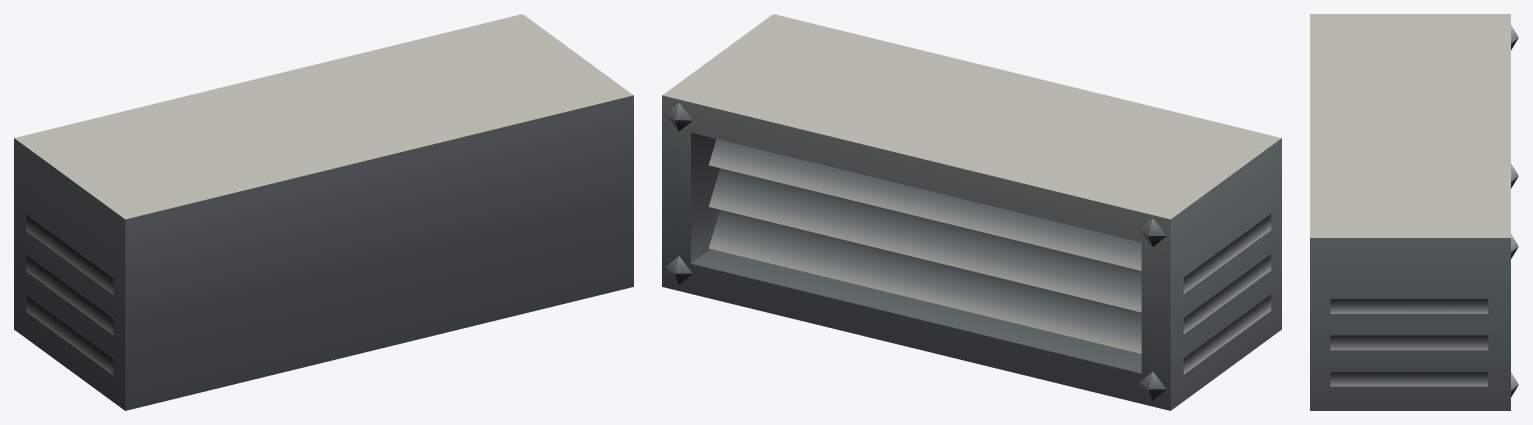
File: Air_Conditioner_3A.fbx
3 views of the same model, side by side, from view 1: azimuth 30°, elevation 25°; view 2: azimuth 150°, elevation 25°; view 3: azimuth 270°, elevation 25° (orthographic). The views are drawn at different scales.
Parts seen in each view (by area): view 1: Air_Conditioner_3A; view 2: Air_Conditioner_3A; view 3: Air_Conditioner_3A.
Boxes of the visible parts, x1,y1,x2,y2 form: Air_Conditioner_3A: (14, 14, 633, 410); Air_Conditioner_3A: (662, 14, 1281, 410); Air_Conditioner_3A: (1310, 14, 1518, 410).
Bounding box in the file's own units: 264 × 95 × 104.
